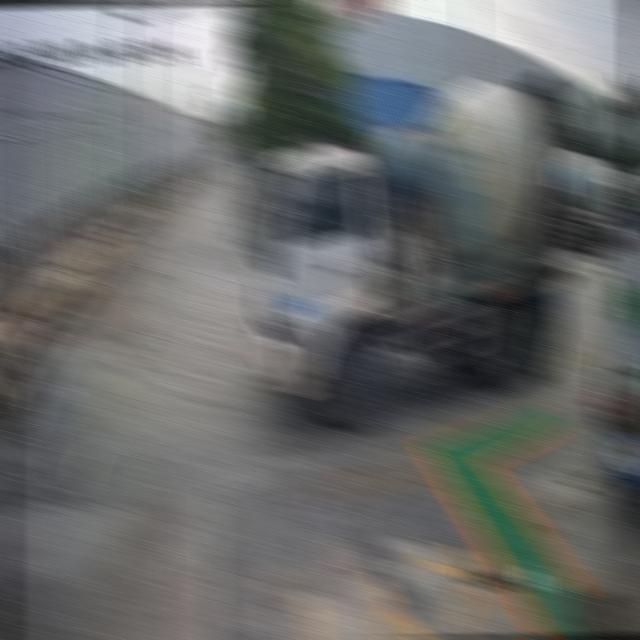cement_mixer_truck: (250, 74, 573, 430), (558, 145, 610, 254), (596, 182, 631, 245), (601, 167, 640, 205)
